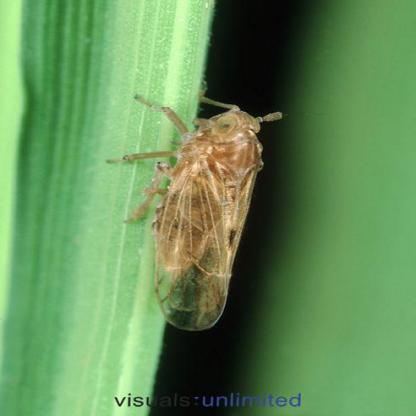brown-planthopper: (154, 94, 272, 328)
